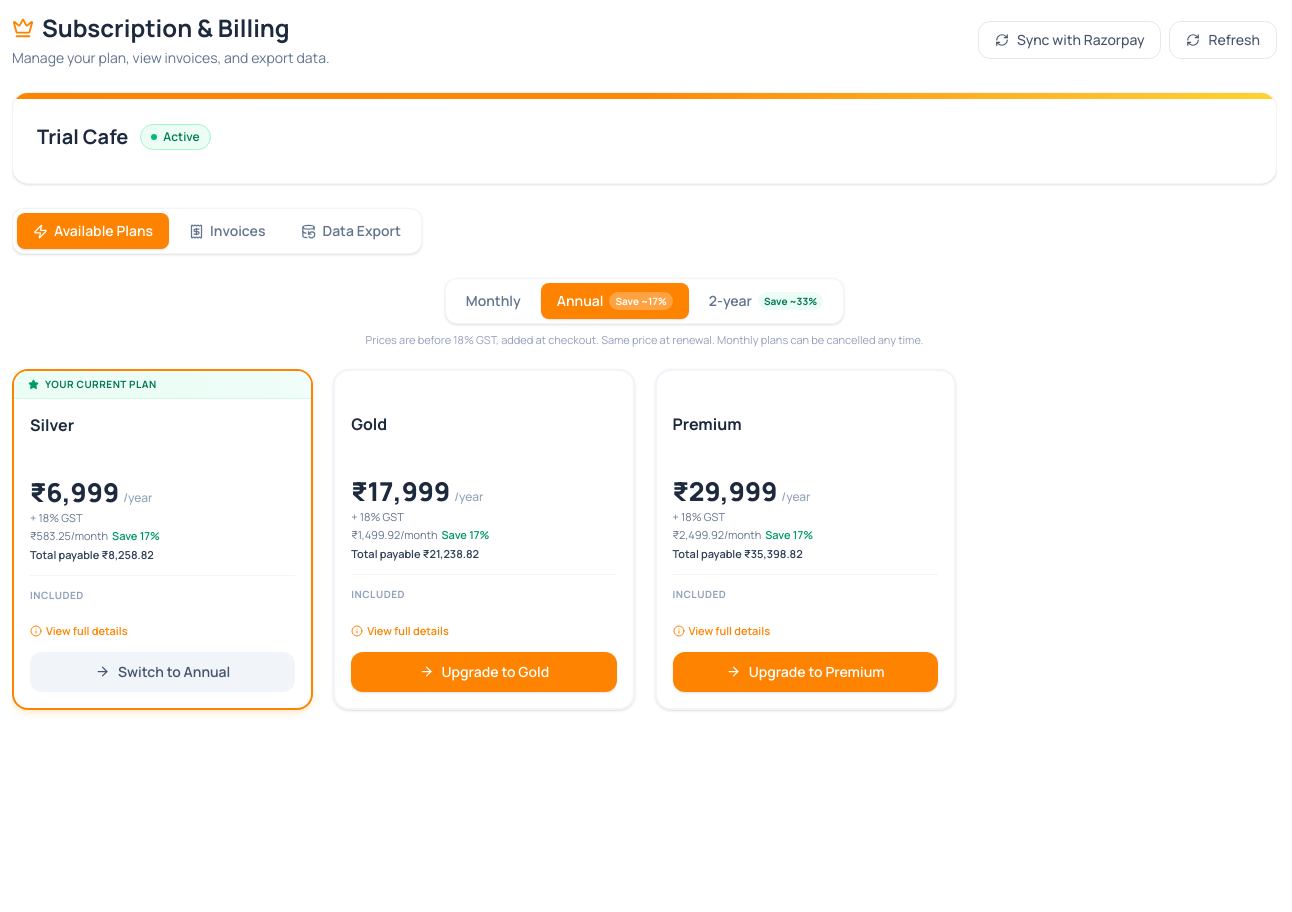
Scenario: upgrade › TERM_ACTIVE shows the backend message inline
Check: the text "₹17,999" is shown, box left=351, top=478, right=450, bottom=504
Click the button "Upgrade to Gold".
click(484, 672)  # box left=351, top=652, right=617, bottom=692
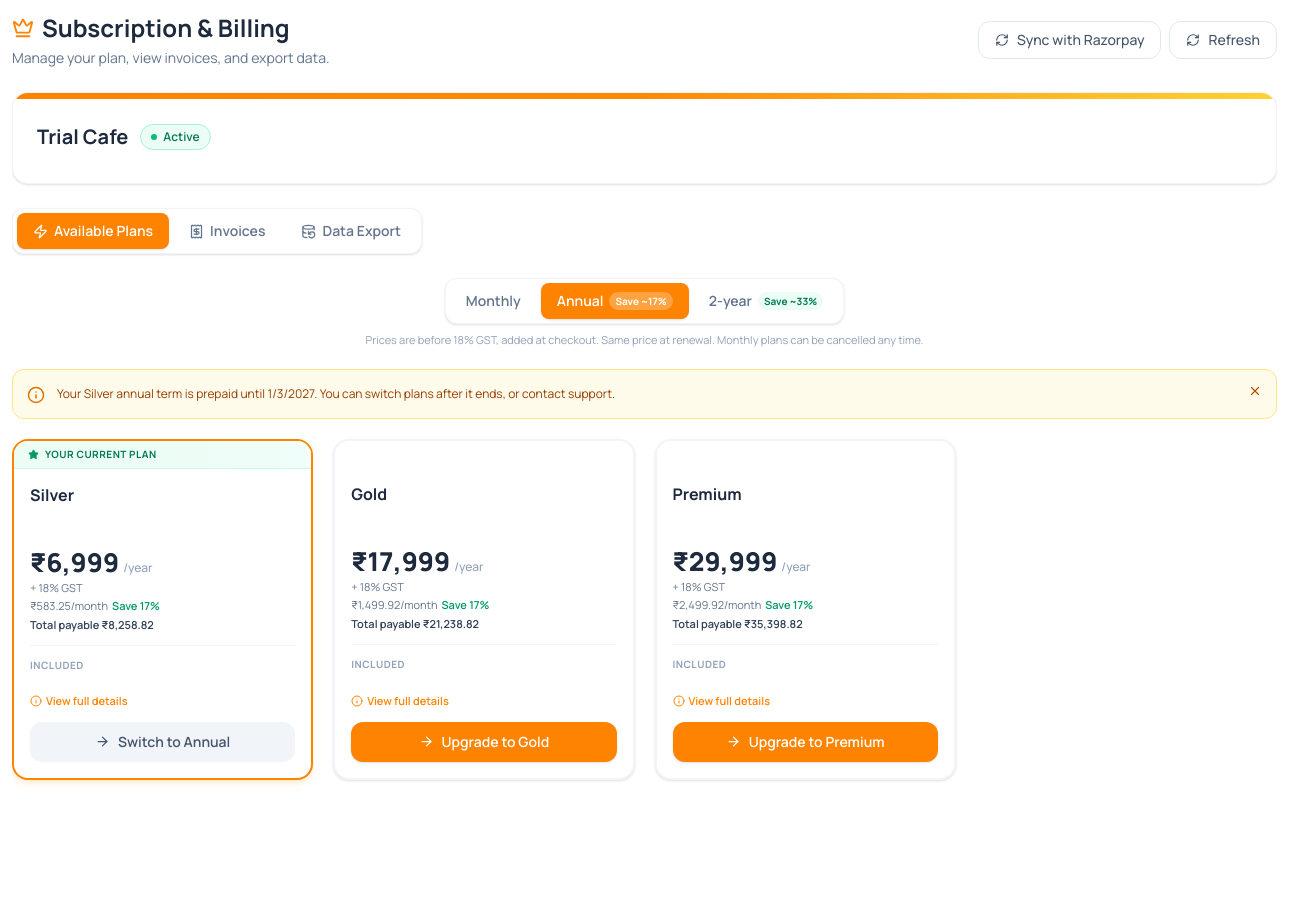
Check: the message with test id "upgrade-error" shows "Your Silver annual term is prepaid until 1/3/2027. You can switch plans after it ends, or contact support.", box left=57, top=384, right=615, bottom=402
